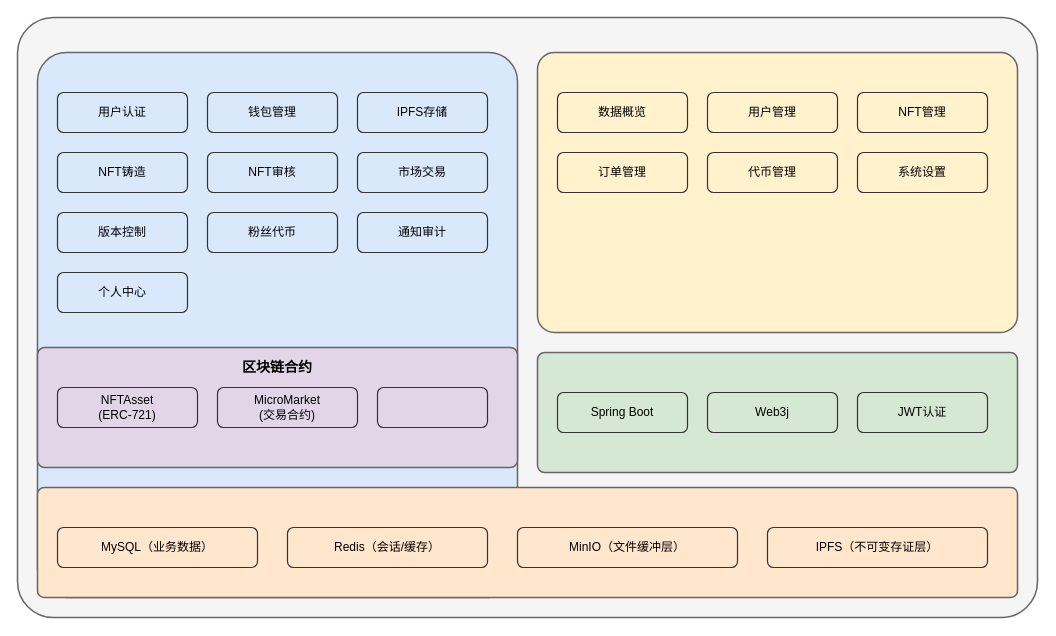
This 1056x636 diagram has some shape labels left out. Here are the shapes that lost their labels. From the top down, the box of each, then its label:
(536, 51, 1018, 333): 管理端
(36, 51, 518, 598): 用户端
(376, 386, 488, 428): FanToken (ERC-20)
(536, 351, 1018, 473): 后端服务
(36, 486, 1018, 598): 存储层
